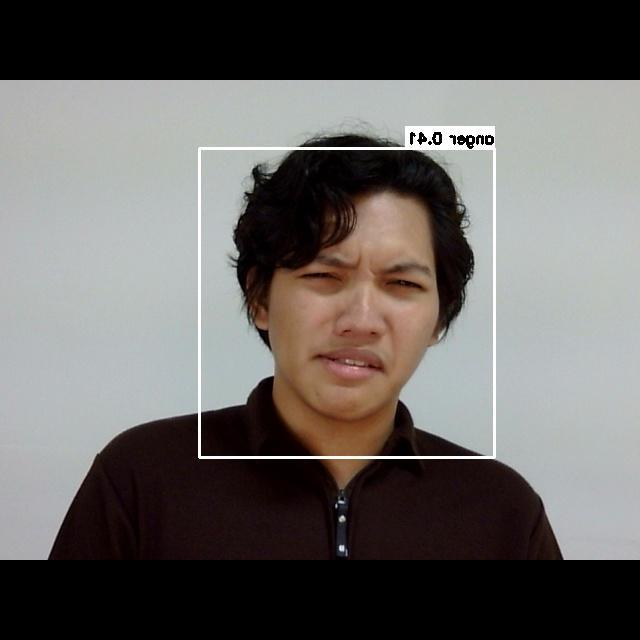Disgust: (261, 229, 461, 407)
